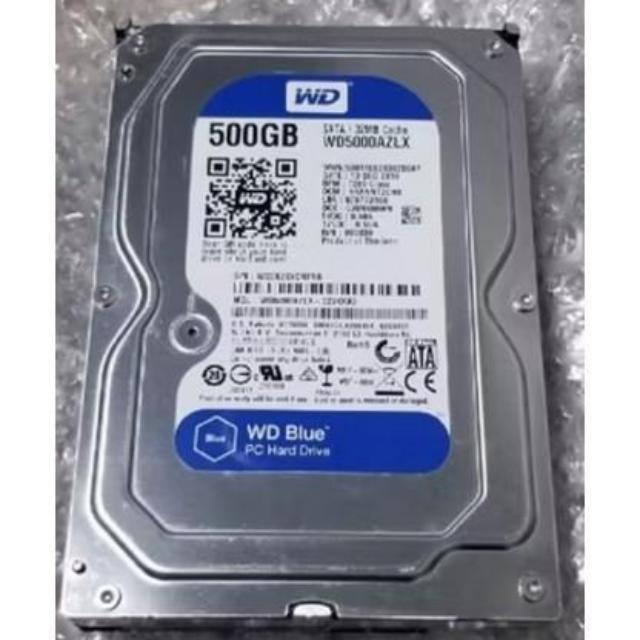DISK: (56, 12, 568, 640)
